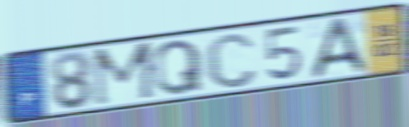5: (263, 24, 304, 82)
8: (48, 49, 95, 112)
A: (309, 15, 370, 81)
C: (203, 30, 259, 91)
M: (91, 39, 158, 109)
Q: (151, 37, 206, 97)
